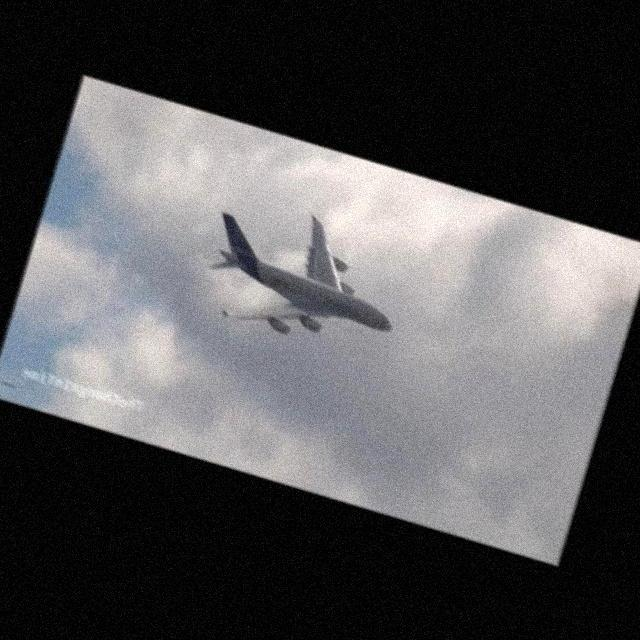airplane: (202, 200, 402, 346)
